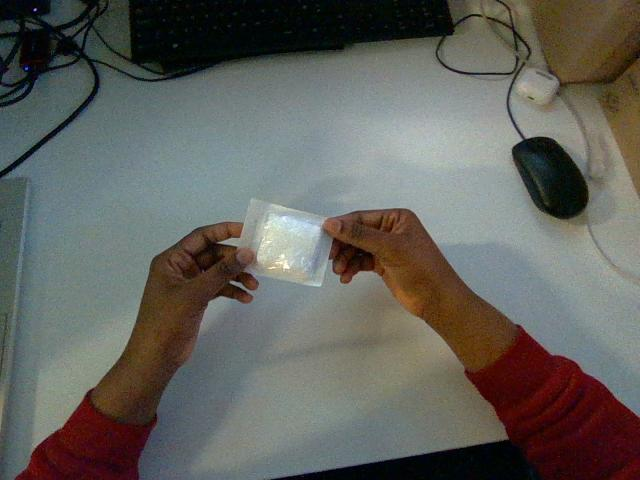gauze: (239, 199, 331, 285)
